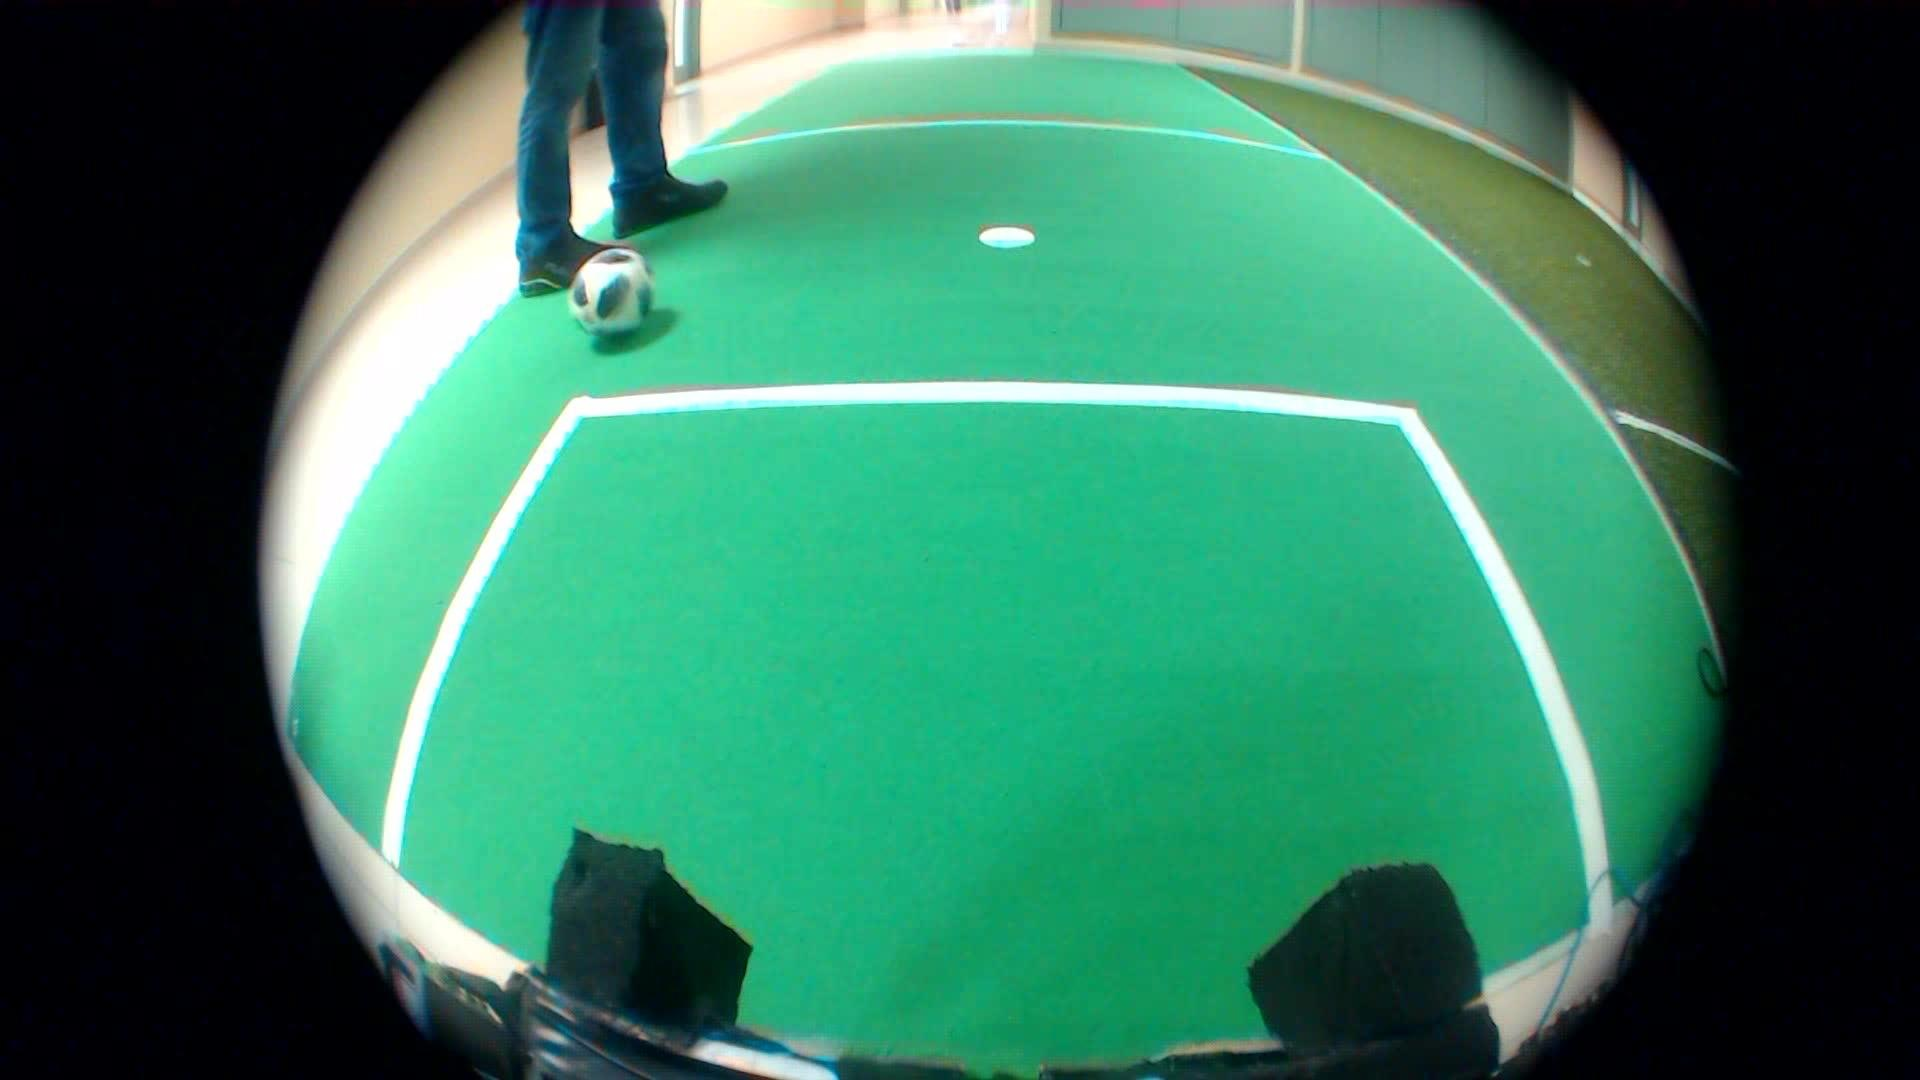ball: (560, 241, 665, 345)
